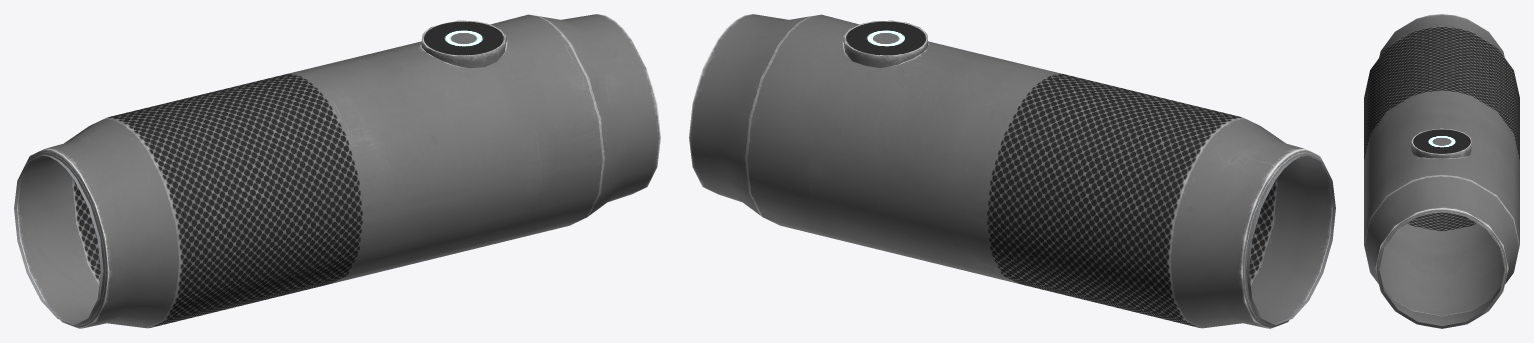
Rendered from grip_15_c_a.glb.
3 views of the same model, side by side, from view 1: azimuth 30°, elevation 25°; view 2: azimuth 150°, elevation 25°; view 3: azimuth 270°, elevation 25° (orthographic). The views are drawn at different scales.
Visible parts, largest first — view 1: grip_15_c_a_lod0; view 2: grip_15_c_a_lod0; view 3: grip_15_c_a_lod0.
Boxes of the visible parts, x1,y1,x2,y2 form: grip_15_c_a_lod0: (14,14,660,328); grip_15_c_a_lod0: (689,14,1335,328); grip_15_c_a_lod0: (1364,14,1519,328).
Size of what is drawn, in the model's own units: 0.1058 by 0.0362 by 0.0354.
1 material, 1 textured.
